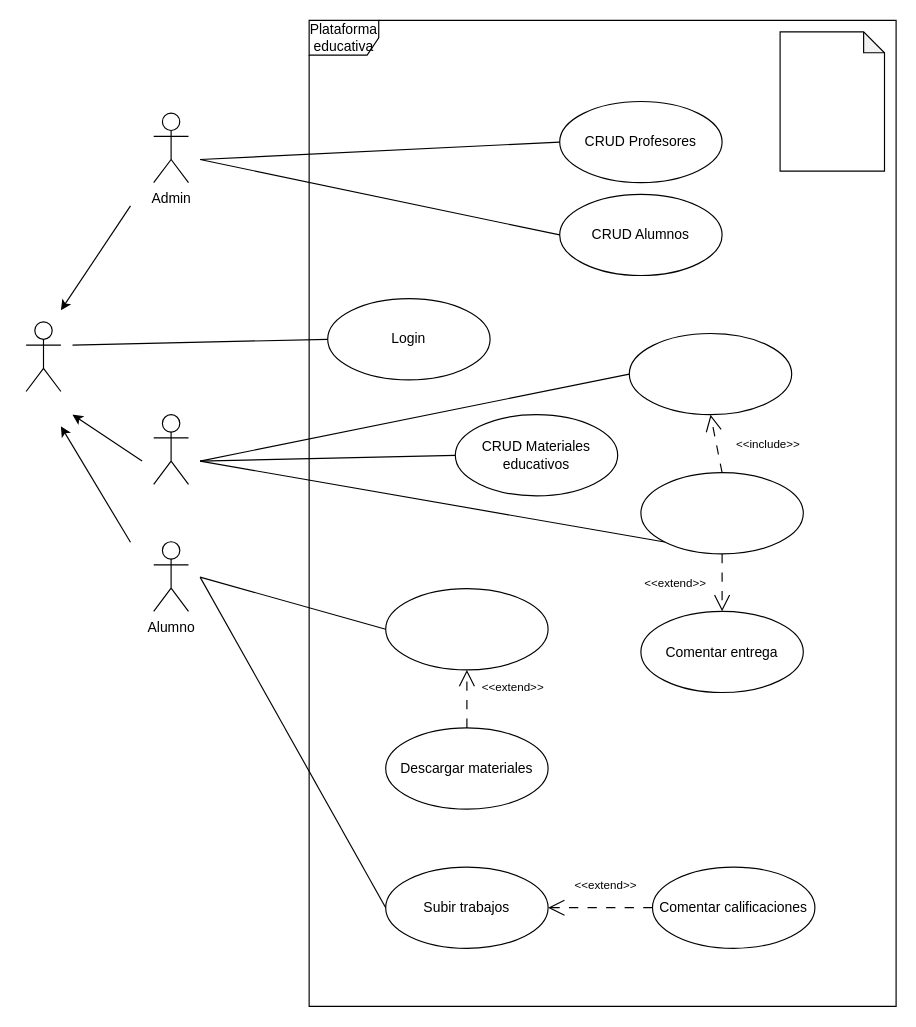
This 916x1027 diagram has some shape labels left out. The centre of each missing label's shape, as x and y in pixels:
"Calificar" belongs at point (721, 513).
"Consultar entregas" belongs at point (710, 373).
"Consultar materiales" belongs at point (466, 629).
"Para todos los casos de uso es obligatorio logearse primero" belongs at point (831, 101).
"Profesor" belongs at point (170, 449).
"Usuario" belongs at point (43, 356).
